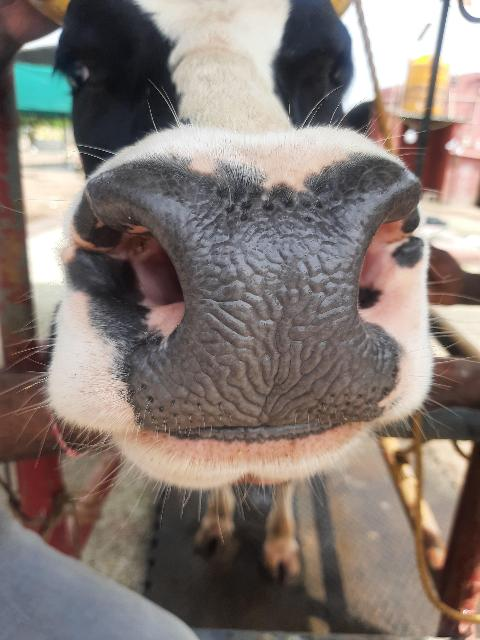Muzzle: (170, 188, 374, 412)
